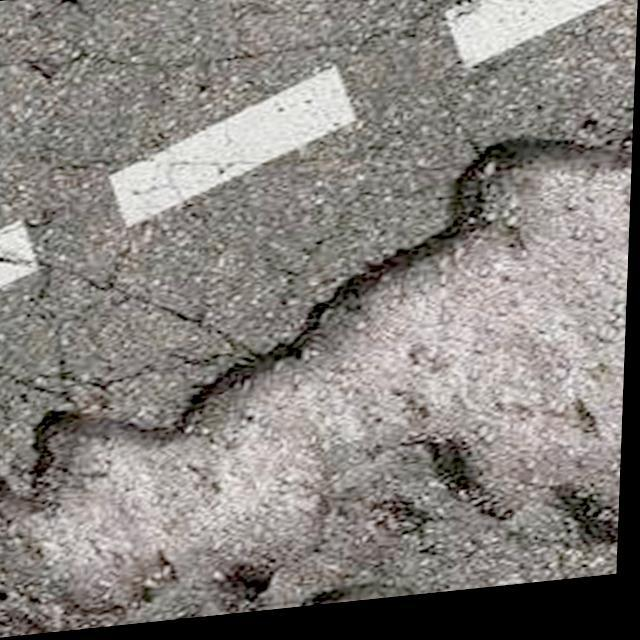pothole: (0, 140, 634, 640)
